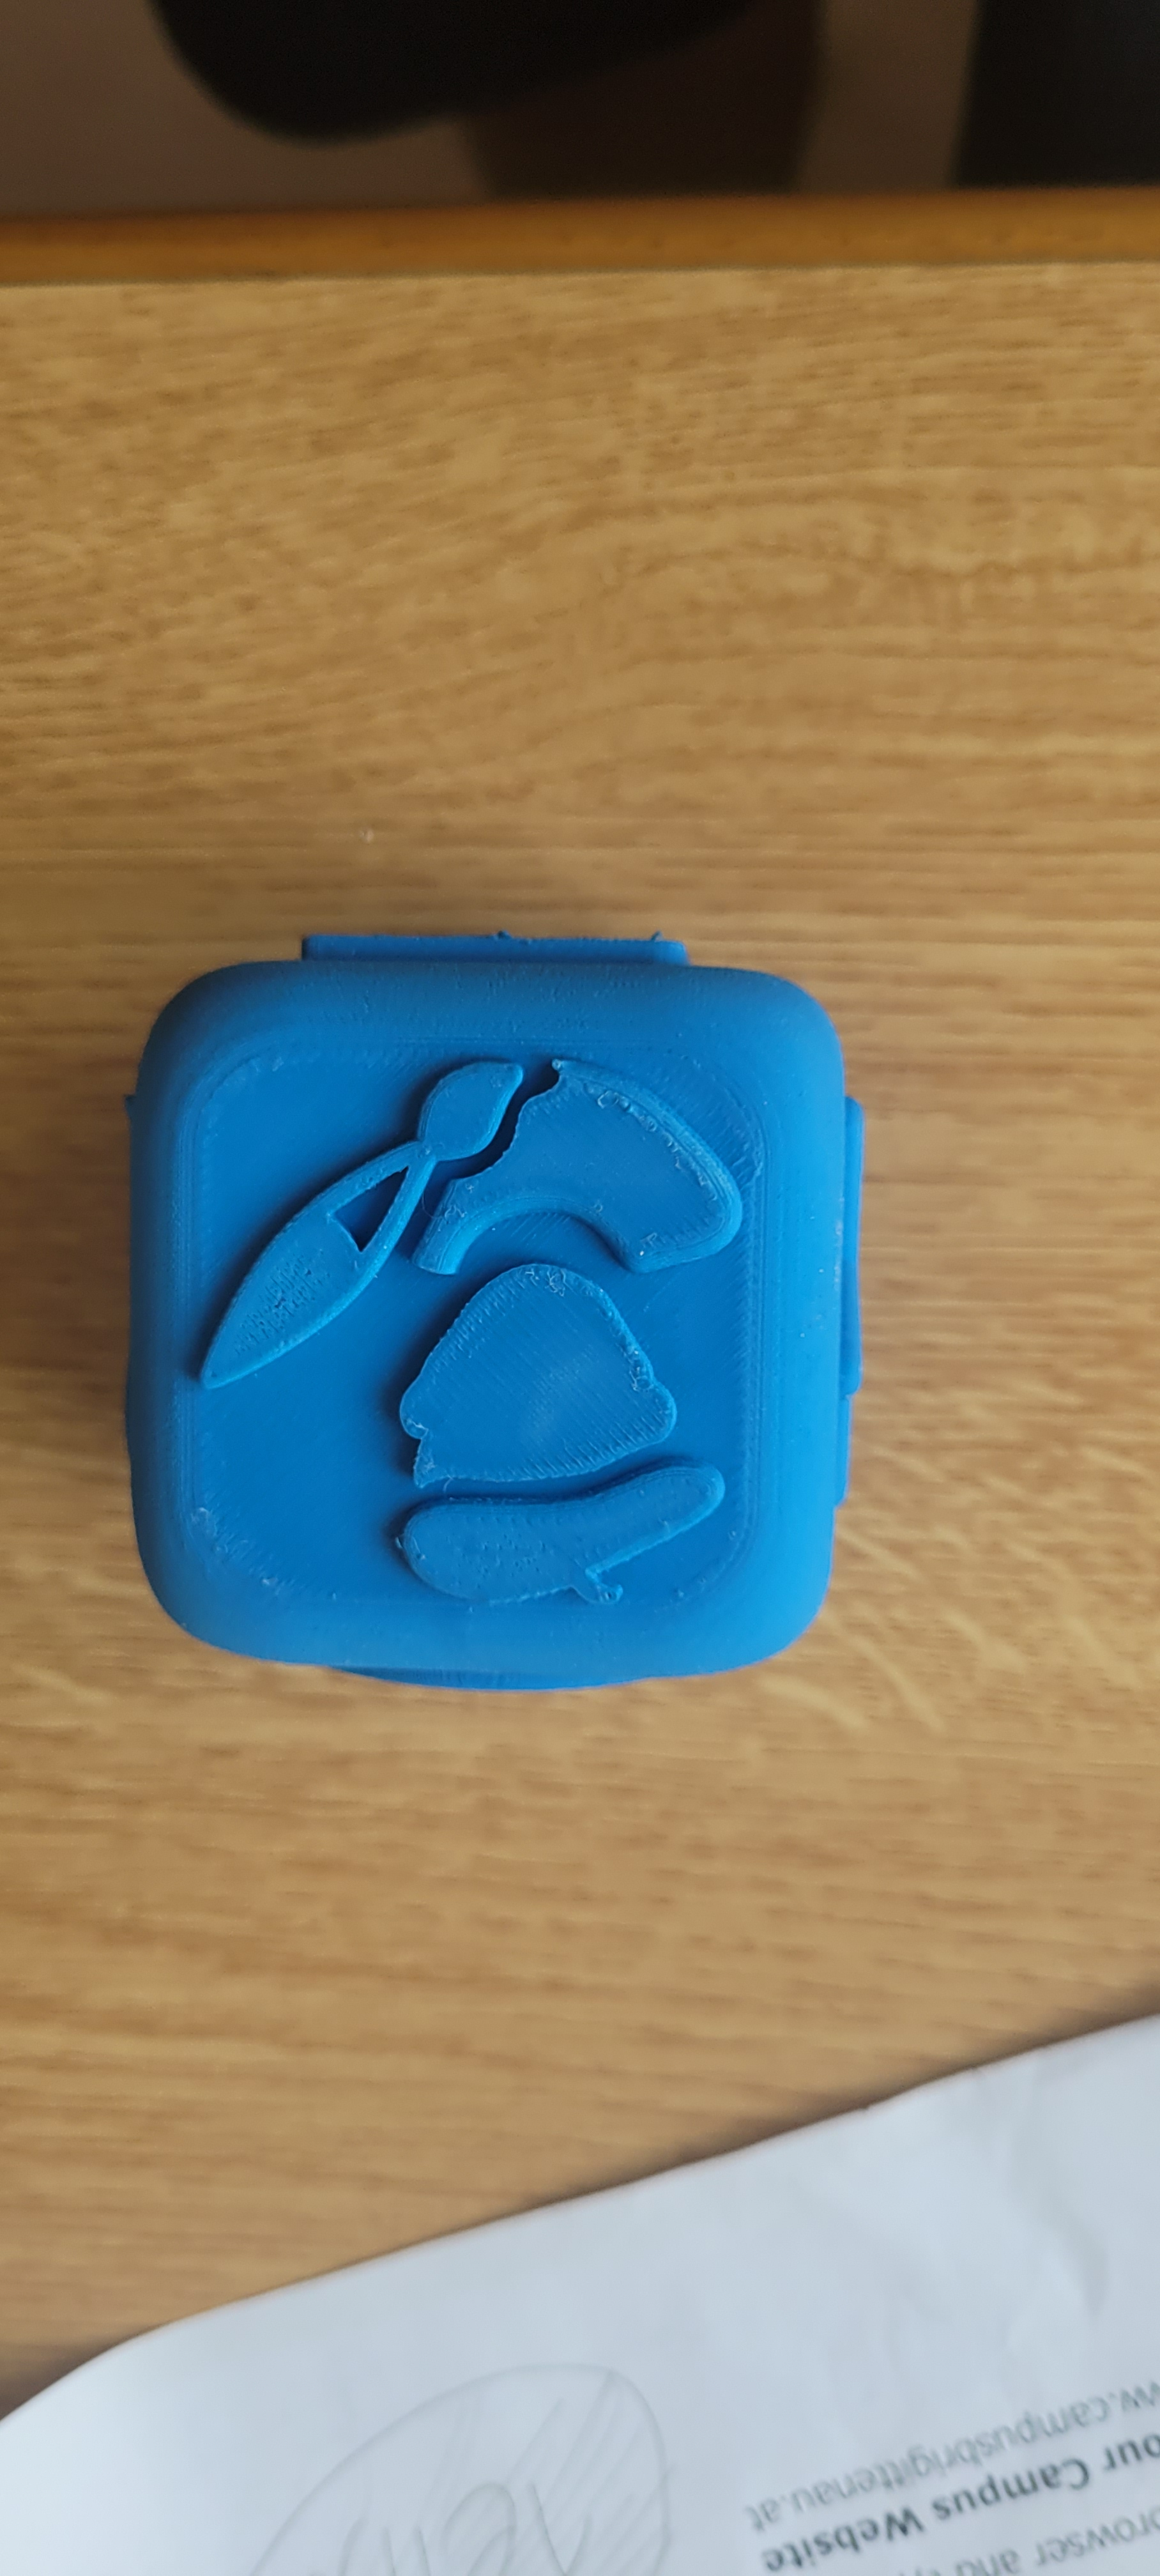Artist_Info: (128, 881, 848, 1702)
